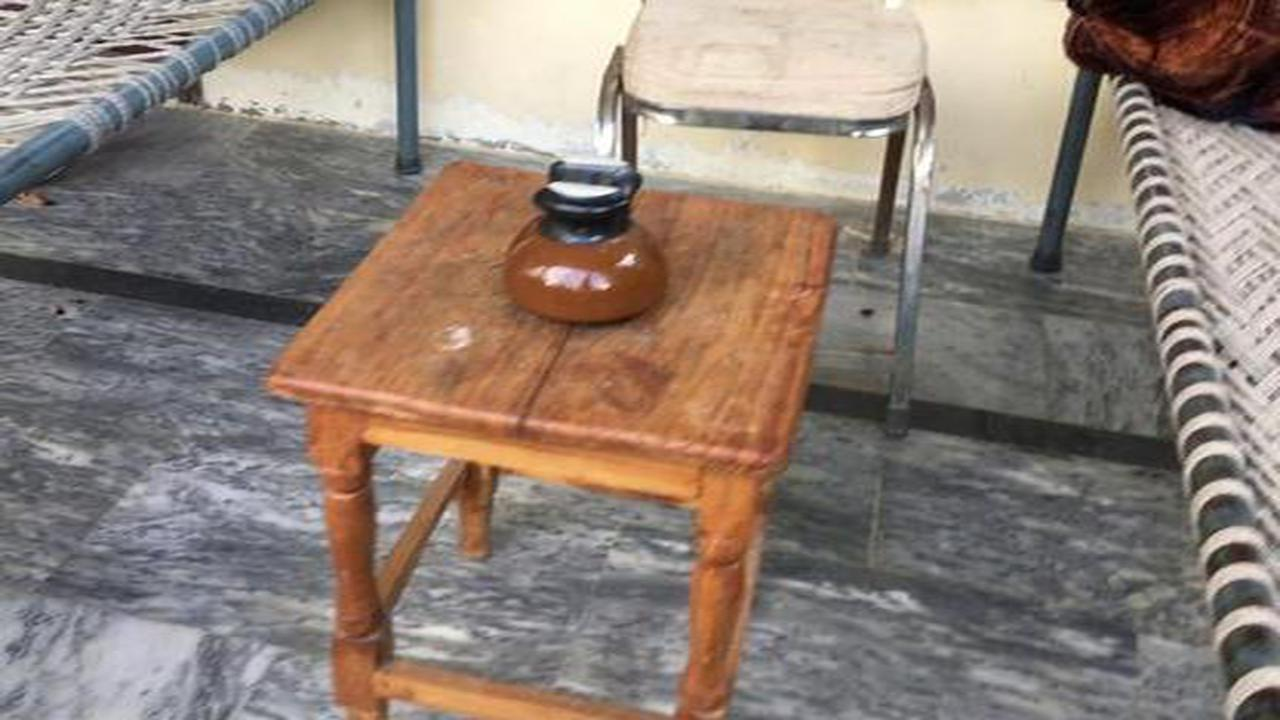insulator_pin: (481, 141, 687, 335)
